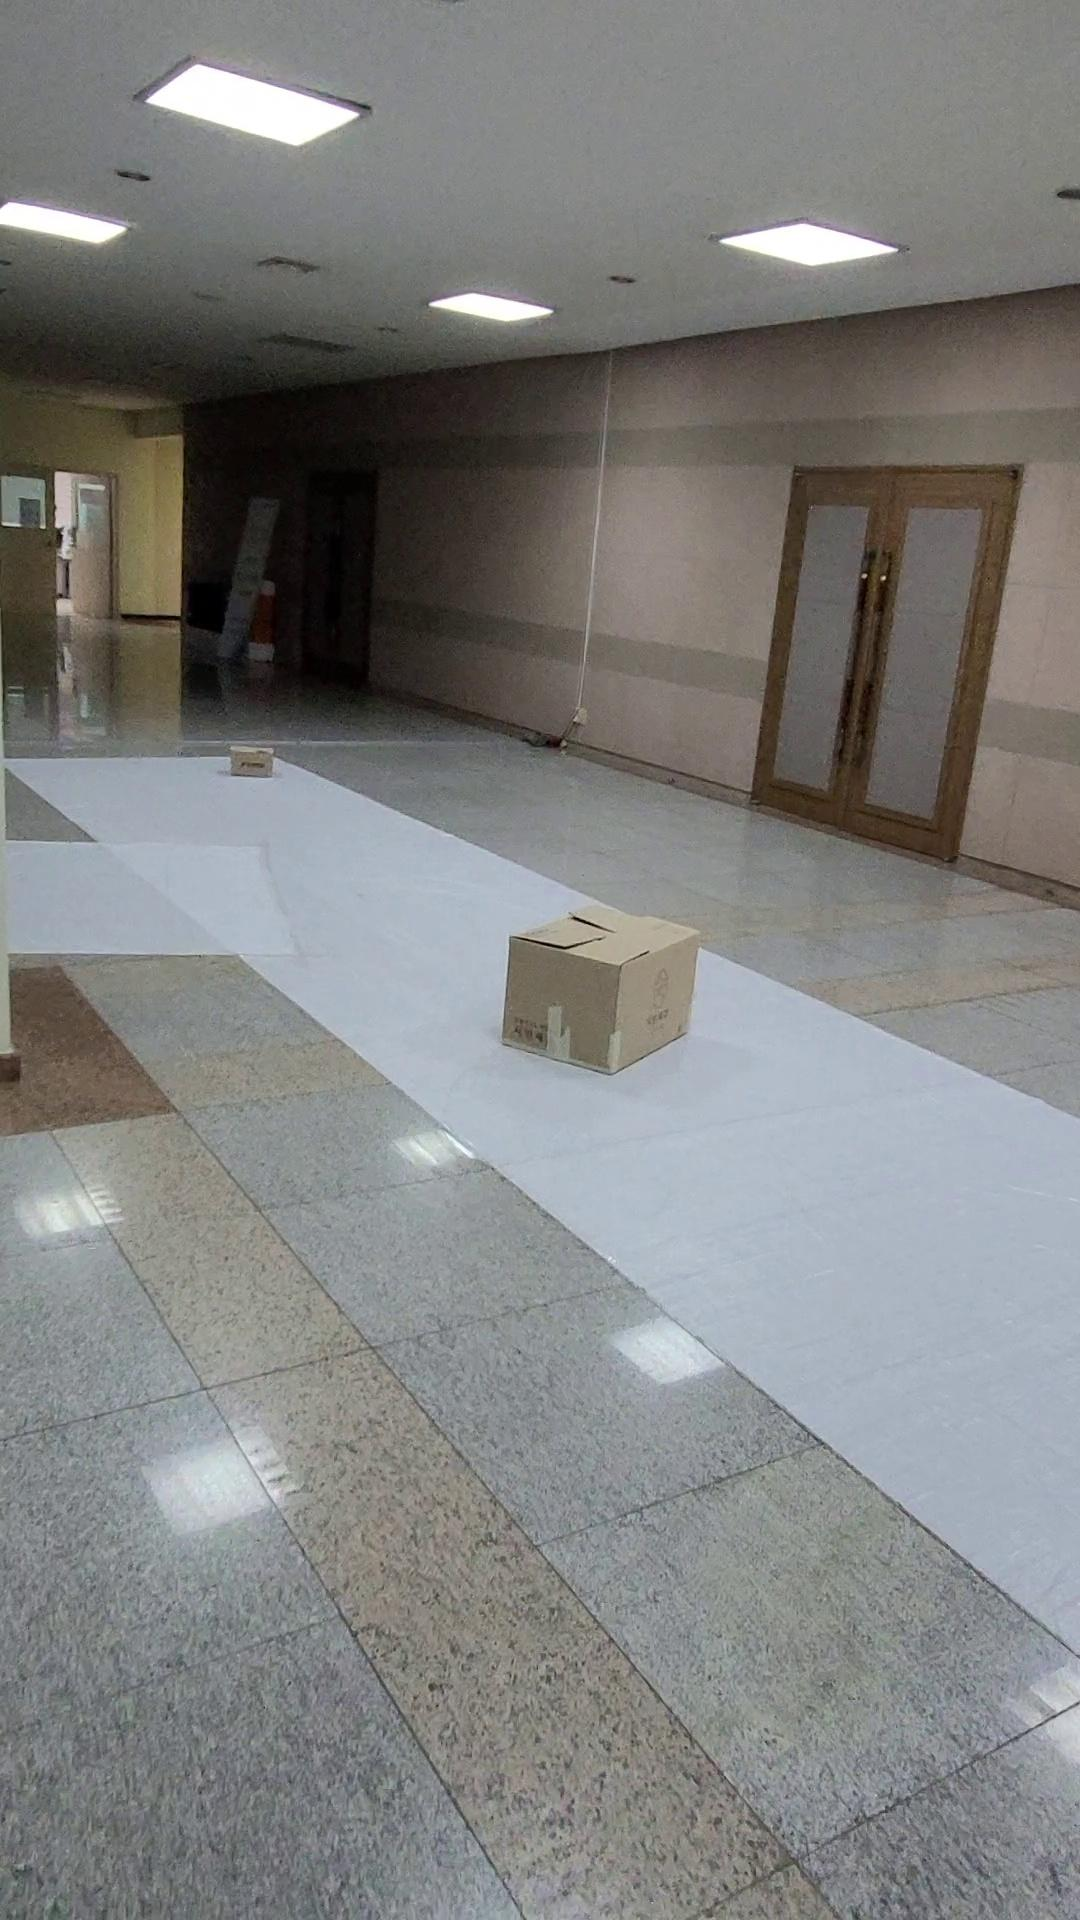Box: (481, 873, 727, 1091)
